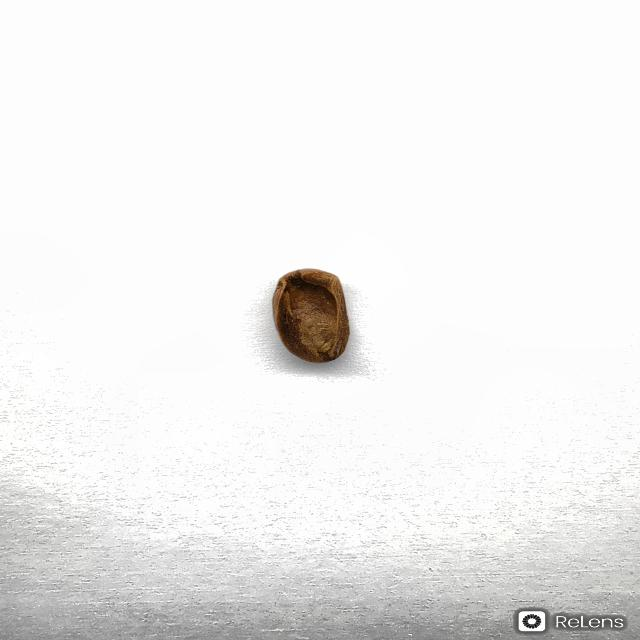Broken: (271, 267, 350, 363)
